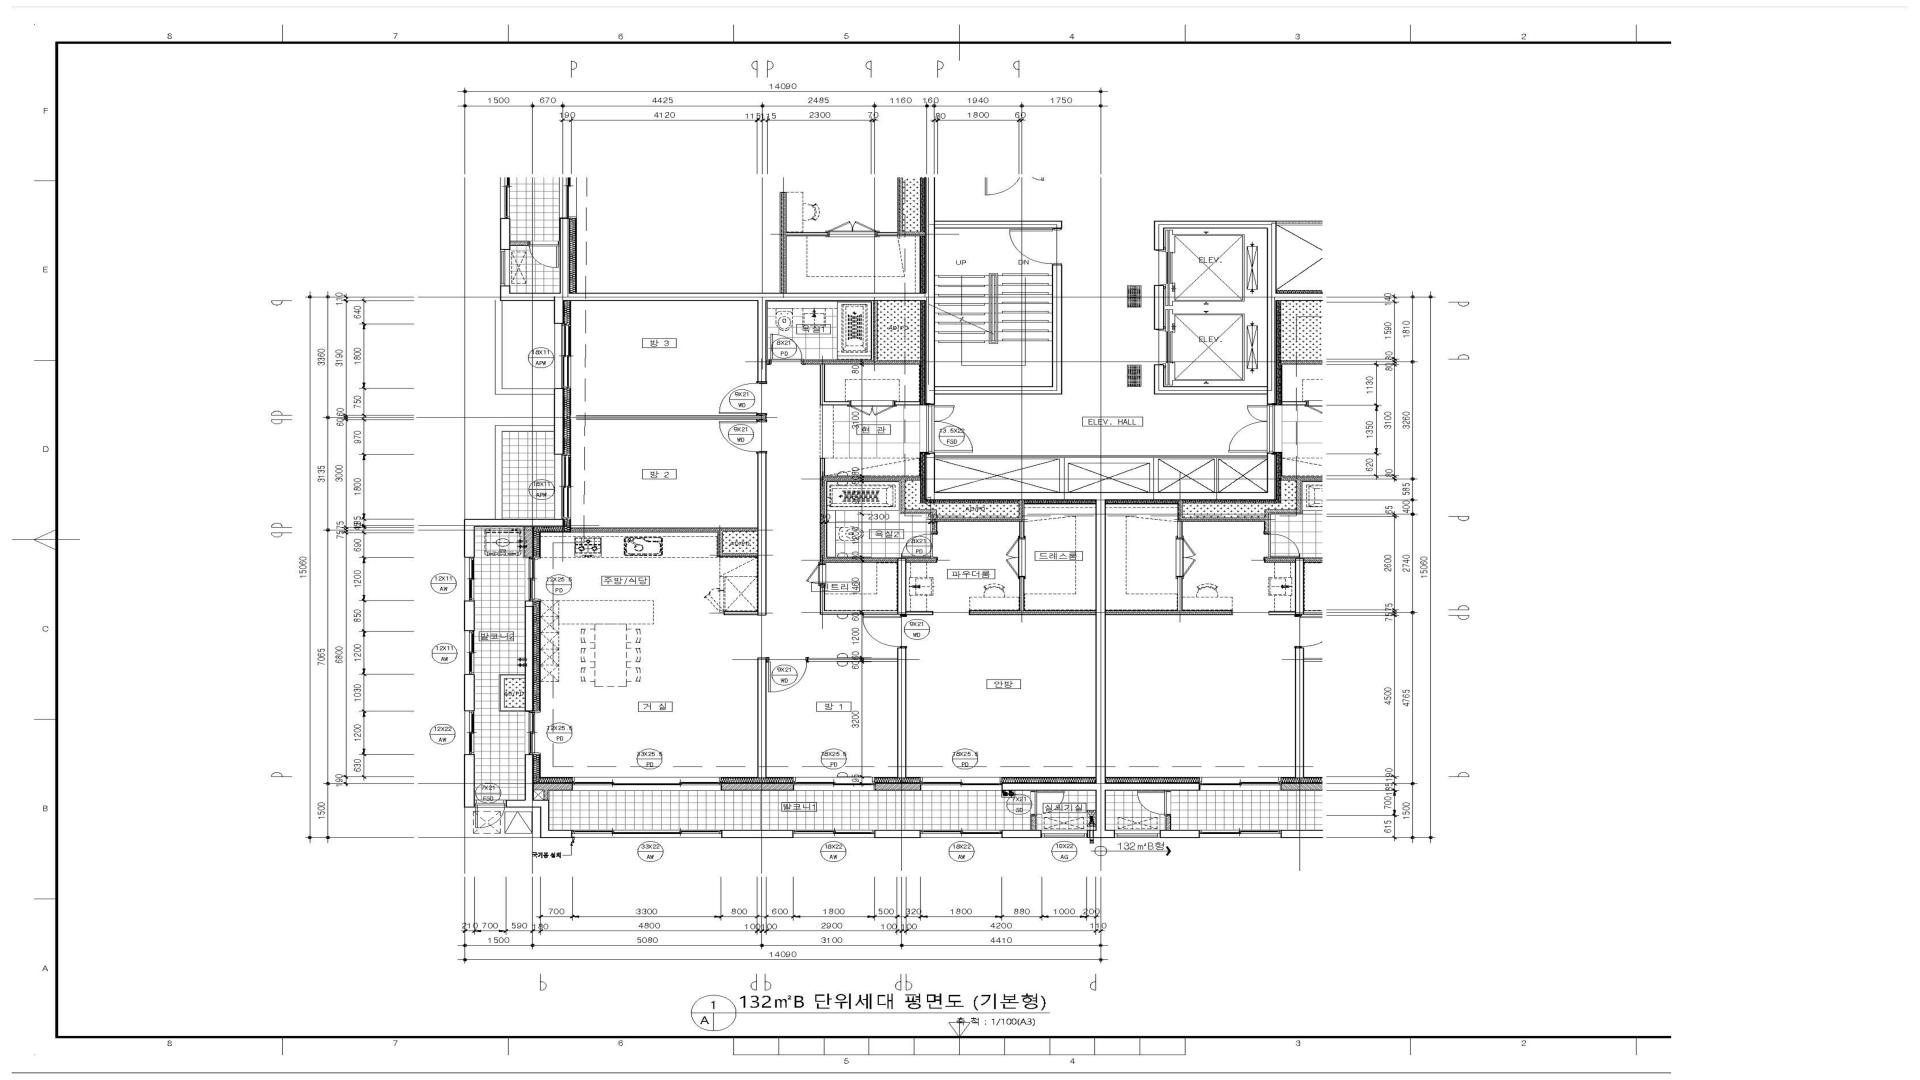door: (1228, 405, 1275, 454), (927, 405, 973, 454), (1009, 228, 1063, 265), (719, 381, 766, 415), (719, 419, 766, 452), (766, 657, 808, 692), (862, 615, 906, 647), (766, 334, 803, 365), (901, 531, 938, 558), (475, 800, 506, 828), (1030, 790, 1064, 815), (1006, 538, 1026, 576), (849, 401, 894, 415), (807, 562, 827, 584)
wall: (1096, 501, 1106, 829), (924, 492, 1267, 501), (554, 293, 924, 301), (935, 455, 1267, 463), (924, 220, 935, 405), (1267, 228, 1276, 405), (757, 452, 766, 616), (1052, 265, 1063, 386), (757, 658, 767, 778), (897, 647, 906, 778), (935, 220, 1063, 229), (935, 386, 1063, 394), (525, 601, 534, 711), (1154, 386, 1267, 394), (1164, 220, 1276, 228), (464, 520, 564, 527), (570, 527, 717, 533), (570, 415, 766, 419), (757, 301, 766, 381), (1002, 783, 1096, 791), (554, 388, 564, 455), (721, 782, 794, 791), (969, 611, 1096, 616), (803, 360, 922, 365), (721, 829, 794, 837), (464, 754, 475, 807), (820, 476, 922, 481), (897, 558, 906, 615), (1267, 454, 1278, 501), (1154, 285, 1164, 330), (525, 754, 534, 800), (874, 829, 920, 839), (876, 782, 920, 791), (820, 481, 825, 558), (924, 454, 935, 492), (464, 674, 475, 711), (1002, 829, 1042, 839), (936, 517, 1025, 521), (808, 658, 897, 662), (506, 800, 550, 808), (1154, 220, 1164, 251), (464, 527, 475, 558), (524, 527, 534, 558), (464, 601, 475, 632), (873, 301, 878, 360), (820, 611, 898, 615), (820, 558, 897, 562), (534, 782, 572, 790), (541, 808, 550, 839), (1059, 463, 1068, 492), (1150, 463, 1159, 492), (554, 301, 564, 324), (1154, 364, 1164, 386), (498, 679, 505, 712), (820, 365, 825, 405), (550, 829, 572, 839), (1087, 829, 1106, 839), (1019, 576, 1025, 611), (901, 480, 906, 513), (906, 558, 938, 563), (717, 527, 723, 558), (820, 583, 825, 611), (894, 401, 920, 406), (723, 554, 757, 558), (723, 527, 757, 531), (1215, 459, 1218, 492), (906, 509, 936, 513), (1030, 815, 1038, 829), (906, 611, 934, 615), (498, 675, 525, 679), (505, 707, 525, 712), (820, 458, 825, 476), (932, 513, 938, 531), (825, 401, 849, 405), (1019, 500, 1025, 517), (1019, 521, 1025, 538), (724, 612, 757, 615), (543, 790, 550, 800)
window: (495, 426, 554, 520), (572, 777, 721, 791), (794, 777, 876, 791), (920, 777, 1002, 791), (572, 829, 721, 837), (555, 323, 571, 388), (555, 455, 571, 520), (525, 558, 541, 601), (525, 711, 541, 754), (920, 829, 1002, 837), (794, 829, 874, 837), (464, 558, 475, 601), (464, 711, 475, 754), (464, 632, 475, 674), (1042, 829, 1087, 837)
